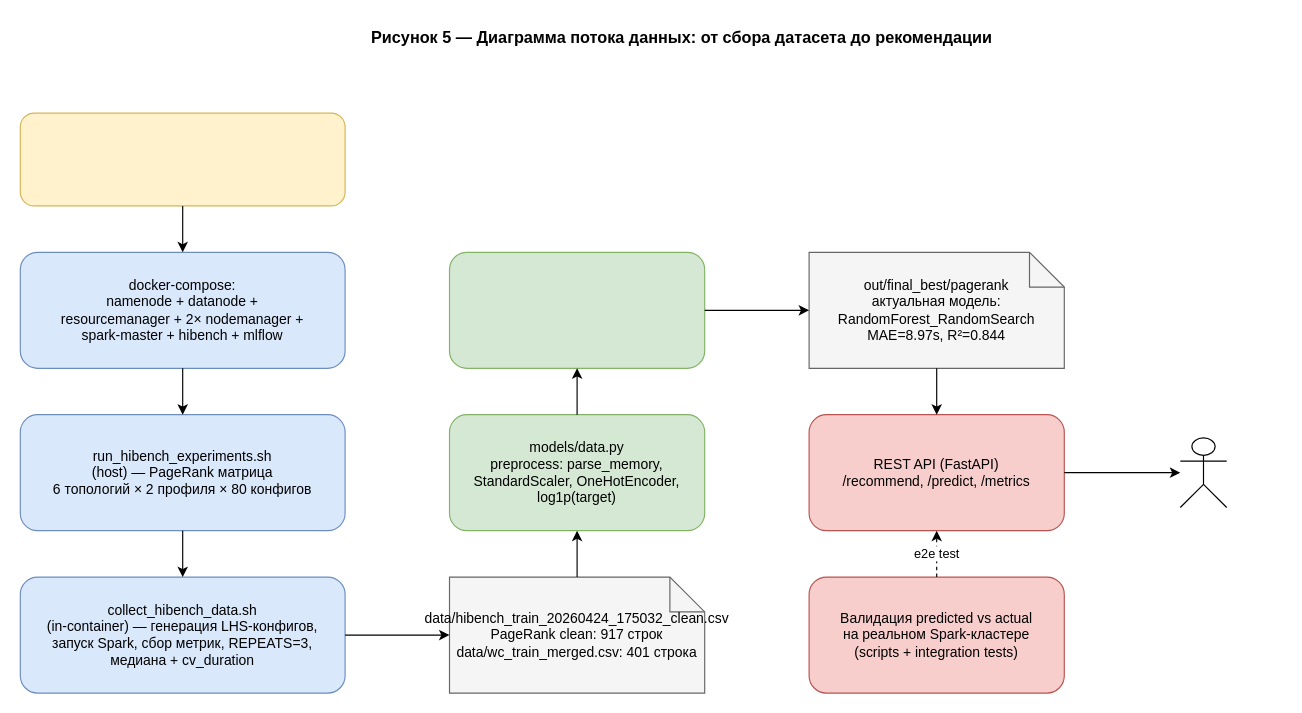
Some shapes in this 1302 by 713 pixel diagram are drawn without their labels. The shapes that lost their labels are listed below. From the top down, each one's centre as x and y in pixels, then its label:
(182,159): Yandex Cloud VM (64 vCPU, 128 GB RAM, 600 GB SSD)
(576,309): training/train_baseline.py train_dnn.py, train_rl.py + MLflow tracking
(1203,472): Конечный пользователь (curl / Python / веб-UI)
